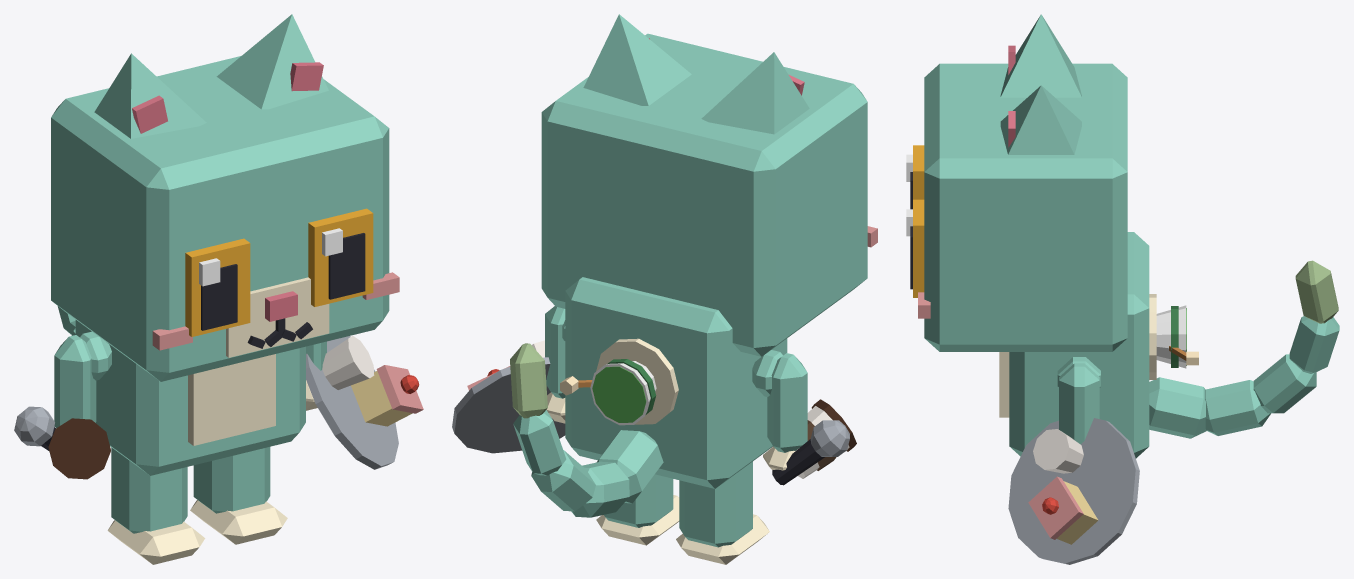
The model's file is CatCafe_Cat_Matcha_Work.glb.
3 renders of one model, left to right at view 1: azimuth 30°, elevation 25°; view 2: azimuth 150°, elevation 25°; view 3: azimuth 270°, elevation 25°, orthographic. The views are drawn at different scales.
Parts seen in each view (by area): view 1: CatCafe_Cat_Matcha_Work_Head, CatCafe_Cat_Matcha_Work_Body, CatCafe_Cat_Matcha_Work_Held_Waiter, CatCafe_Cat_Matcha_Work_LegB2, CatCafe_Cat_Matcha_Work_LegB1, CatCafe_Cat_Matcha_Work_EarL, CatCafe_Cat_Matcha_Work_Eye2, CatCafe_Cat_Matcha_Work_Eye1, CatCafe_Cat_Matcha_Work_EarR, CatCafe_Cat_Matcha_Work_LegF2, CatCafe_Cat_Matcha_Work_Held_Barista, CatCafe_Cat_Matcha_Work_Held_Entertainer (+1 smaller); view 2: CatCafe_Cat_Matcha_Work_Head, CatCafe_Cat_Matcha_Work_Body, CatCafe_Cat_Matcha_Work_Tail, CatCafe_Cat_Matcha_Work_Prop, CatCafe_Cat_Matcha_Work_LegB2, CatCafe_Cat_Matcha_Work_EarL, CatCafe_Cat_Matcha_Work_EarR, CatCafe_Cat_Matcha_Work_Held_Waiter, CatCafe_Cat_Matcha_Work_LegF2, CatCafe_Cat_Matcha_Work_LegB1, CatCafe_Cat_Matcha_Work_Held_Entertainer, CatCafe_Cat_Matcha_Work_LegF1 (+1 smaller); view 3: CatCafe_Cat_Matcha_Work_Head, CatCafe_Cat_Matcha_Work_Held_Waiter, CatCafe_Cat_Matcha_Work_Body, CatCafe_Cat_Matcha_Work_Tail, CatCafe_Cat_Matcha_Work_EarR, CatCafe_Cat_Matcha_Work_EarL, CatCafe_Cat_Matcha_Work_LegF1, CatCafe_Cat_Matcha_Work_Prop, CatCafe_Cat_Matcha_Work_Eye1, CatCafe_Cat_Matcha_Work_Eye2.
Boxes of the visible parts, bbox=[...] form: CatCafe_Cat_Matcha_Work_Head: bbox=[51, 56, 399, 381]; CatCafe_Cat_Matcha_Work_Body: bbox=[75, 320, 305, 475]; CatCafe_Cat_Matcha_Work_Held_Waiter: bbox=[306, 335, 423, 469]; CatCafe_Cat_Matcha_Work_LegB2: bbox=[107, 447, 205, 564]; CatCafe_Cat_Matcha_Work_LegB1: bbox=[190, 447, 287, 544]; CatCafe_Cat_Matcha_Work_EarL: bbox=[216, 14, 328, 109]; CatCafe_Cat_Matcha_Work_Eye2: bbox=[185, 238, 250, 336]; CatCafe_Cat_Matcha_Work_Eye1: bbox=[308, 208, 373, 306]; CatCafe_Cat_Matcha_Work_EarR: bbox=[94, 53, 206, 138]; CatCafe_Cat_Matcha_Work_LegF2: bbox=[54, 335, 96, 427]; CatCafe_Cat_Matcha_Work_Held_Barista: bbox=[48, 418, 110, 479]; CatCafe_Cat_Matcha_Work_Held_Entertainer: bbox=[14, 406, 55, 450]; CatCafe_Cat_Matcha_Work_Head: bbox=[541, 33, 877, 356]; CatCafe_Cat_Matcha_Work_Body: bbox=[562, 277, 787, 488]; CatCafe_Cat_Matcha_Work_Tail: bbox=[510, 343, 663, 517]; CatCafe_Cat_Matcha_Work_Prop: bbox=[560, 338, 678, 425]; CatCafe_Cat_Matcha_Work_LegB2: bbox=[676, 461, 769, 564]; CatCafe_Cat_Matcha_Work_EarL: bbox=[583, 14, 691, 105]; CatCafe_Cat_Matcha_Work_EarR: bbox=[701, 52, 809, 134]; CatCafe_Cat_Matcha_Work_Held_Waiter: bbox=[452, 340, 565, 453]; CatCafe_Cat_Matcha_Work_LegF2: bbox=[763, 353, 807, 470]; CatCafe_Cat_Matcha_Work_LegB1: bbox=[596, 474, 679, 545]; CatCafe_Cat_Matcha_Work_Held_Entertainer: bbox=[772, 420, 849, 485]; CatCafe_Cat_Matcha_Work_LegF1: bbox=[545, 306, 565, 423]; CatCafe_Cat_Matcha_Work_Head: bbox=[918, 63, 1127, 351]; CatCafe_Cat_Matcha_Work_Held_Waiter: bbox=[1008, 418, 1139, 564]; CatCafe_Cat_Matcha_Work_Body: bbox=[999, 232, 1149, 458]; CatCafe_Cat_Matcha_Work_Tail: bbox=[1149, 260, 1339, 438]; CatCafe_Cat_Matcha_Work_EarR: bbox=[1000, 14, 1081, 97]; CatCafe_Cat_Matcha_Work_EarL: bbox=[1000, 85, 1081, 154]; CatCafe_Cat_Matcha_Work_LegF1: bbox=[1059, 363, 1099, 444]; CatCafe_Cat_Matcha_Work_Prop: bbox=[1149, 294, 1198, 379]; CatCafe_Cat_Matcha_Work_Eye1: bbox=[906, 199, 924, 297]; CatCafe_Cat_Matcha_Work_Eye2: bbox=[906, 145, 924, 209].
Size of the model in its own units: 1.53 by 1.93 by 1.62.
1 material, 1 textured.
